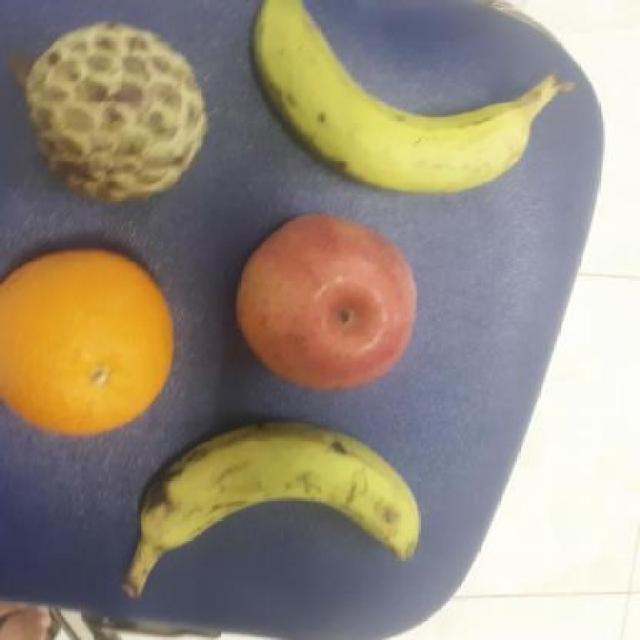apple: (232, 209, 423, 393)
banana: (248, 0, 550, 200), (138, 417, 422, 571)
oren: (1, 246, 181, 439)
sugar apple: (5, 18, 216, 205)
